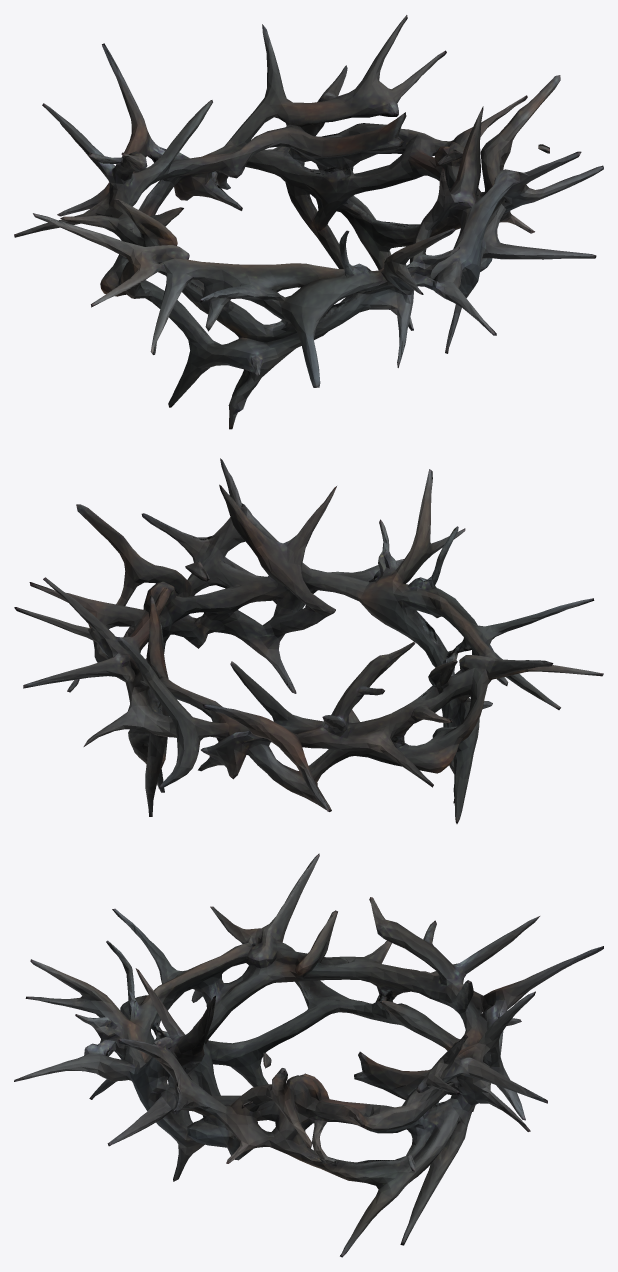
File: sample.fbx
3 renders of one model, top to bottom at view 1: azimuth 30°, elevation 25°; view 2: azimuth 150°, elevation 25°; view 3: azimuth 270°, elevation 25°, orthographic. The views are drawn at different scales.
Parts seen in each view (by area): view 1: world; view 2: world; view 3: world.
Part boxes in pixels (left/top/right/bottom): world: left=14, top=15, right=603, bottom=429; world: left=14, top=458, right=603, bottom=823; world: left=14, top=853, right=603, bottom=1257.
Bounding box in the file's own units: 0.9824 × 0.4906 × 0.9917.
1 material, 1 textured.
